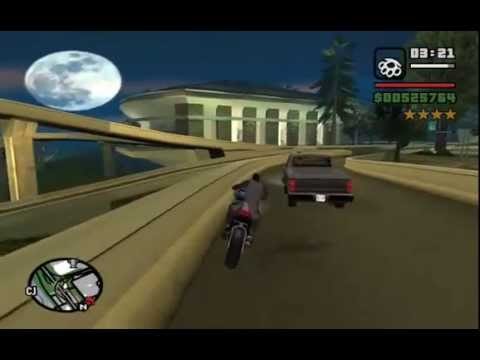bike: (226, 179, 257, 270)
car: (281, 153, 352, 208)
